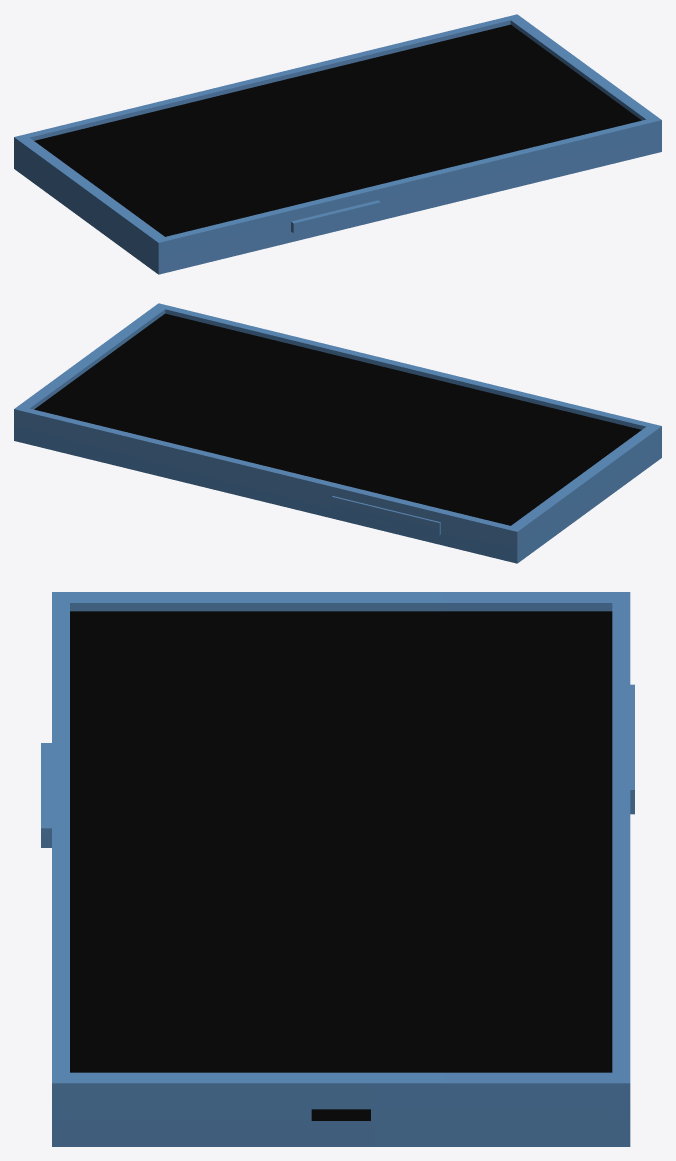
The model's file is Phone.fbx.
3 renders of one model, top to bottom at view 1: azimuth 30°, elevation 25°; view 2: azimuth 150°, elevation 25°; view 3: azimuth 270°, elevation 25°, orthographic. The views are drawn at different scales.
Visible parts, largest first — view 1: Phone; view 2: Phone; view 3: Phone.
Boxes of the visible parts, bbox=[...] form: Phone: bbox=[14, 14, 661, 274]; Phone: bbox=[14, 303, 661, 563]; Phone: bbox=[41, 592, 634, 1146].
Bounding box in the file's own units: 32.73 × 1.98 × 16.72.
1 material, 1 textured.
